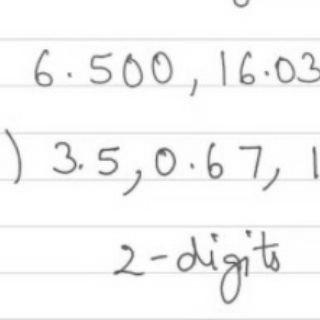.: (187, 159, 197, 173), (65, 68, 75, 79), (262, 68, 270, 79), (76, 163, 86, 170)
0: (120, 50, 146, 89), (152, 144, 178, 177), (152, 47, 173, 86), (274, 56, 296, 84)
1: (113, 241, 145, 277), (216, 48, 232, 86), (310, 145, 320, 180)
3: (50, 139, 78, 175), (297, 51, 320, 84)
5: (87, 49, 114, 86), (96, 145, 122, 177)
6: (29, 45, 58, 87), (205, 139, 226, 180), (237, 47, 258, 86)
7: (236, 142, 263, 181)
